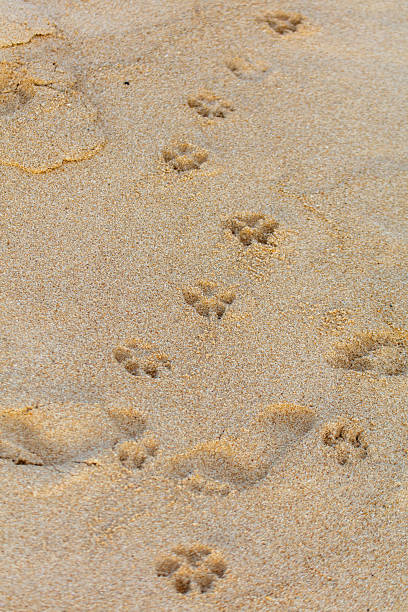animal_footprint: (169, 403, 314, 494), (0, 61, 104, 173), (0, 404, 145, 464), (327, 330, 407, 375), (156, 543, 226, 593), (0, 0, 55, 47), (113, 338, 170, 377), (182, 279, 236, 319), (320, 419, 367, 464), (224, 212, 278, 245), (162, 140, 208, 171), (116, 436, 158, 468), (187, 90, 233, 118), (226, 56, 269, 80), (261, 10, 303, 34)
